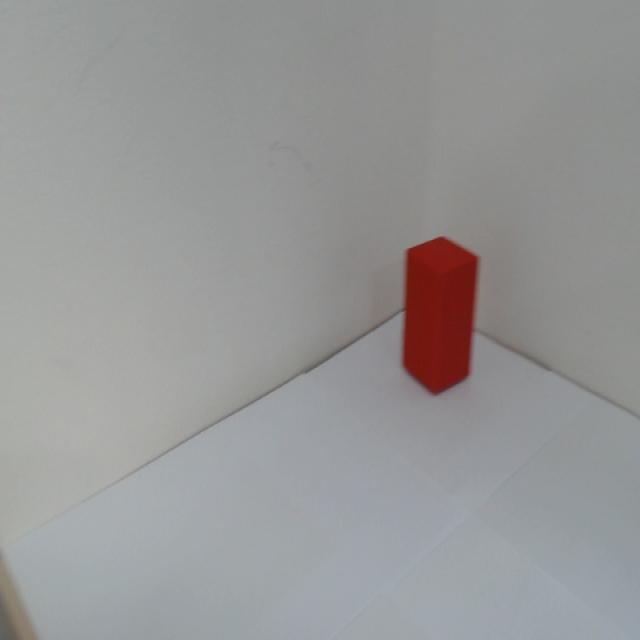cube: (398, 231, 482, 402)
